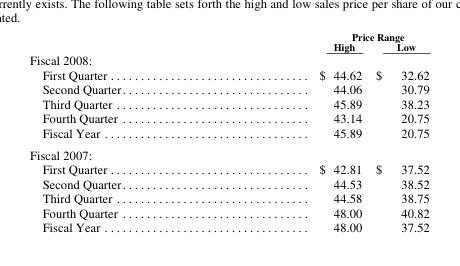table: (29, 29, 428, 234)
table column: (29, 29, 219, 234), (219, 29, 368, 234), (368, 29, 428, 234)
table column header: (29, 29, 428, 52)
table projected row header: (29, 142, 428, 161), (29, 52, 428, 66)
table row: (29, 142, 428, 161), (29, 124, 428, 142), (29, 66, 428, 81), (29, 95, 428, 110), (29, 175, 428, 190), (29, 204, 428, 219), (29, 219, 428, 234), (29, 52, 428, 66), (29, 81, 428, 95), (29, 110, 428, 124), (29, 161, 428, 175), (29, 190, 428, 204), (29, 29, 428, 41), (29, 41, 428, 52)
table spanning cell: (219, 29, 428, 41)
